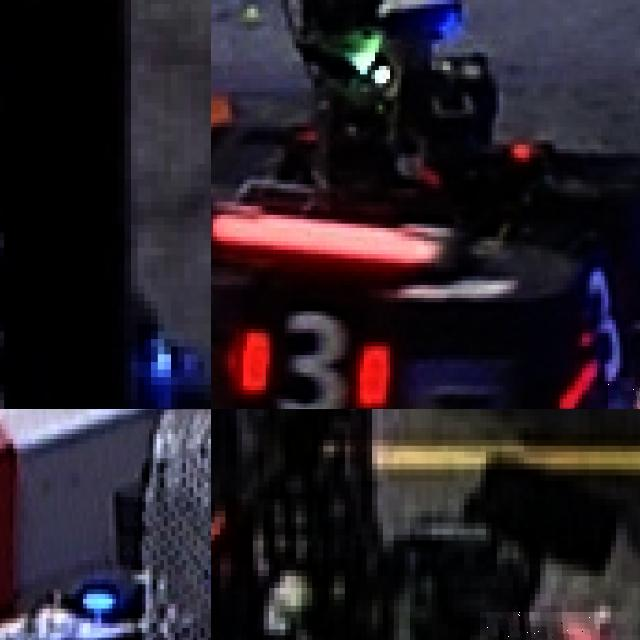R1: (480, 611, 599, 640)
R3: (228, 302, 390, 409), (570, 254, 640, 376)
